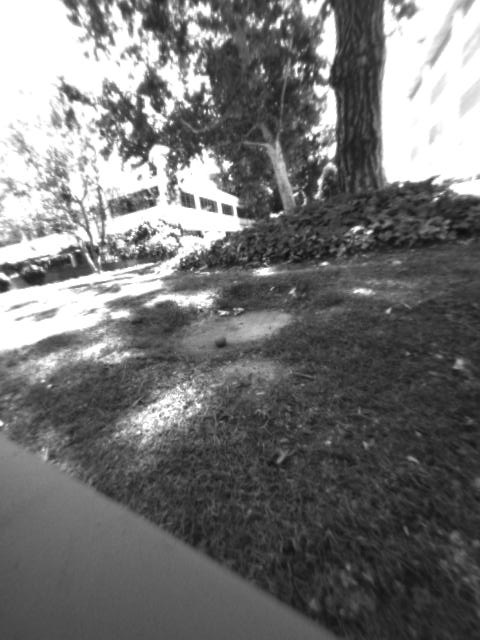dogtoy: (209, 329, 234, 356)
